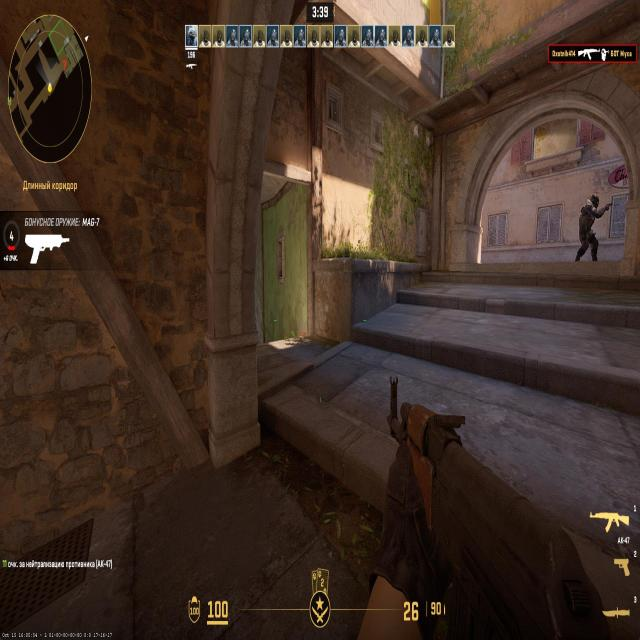CT: (581, 192, 596, 251)
CT_heat: (590, 204, 595, 214)
